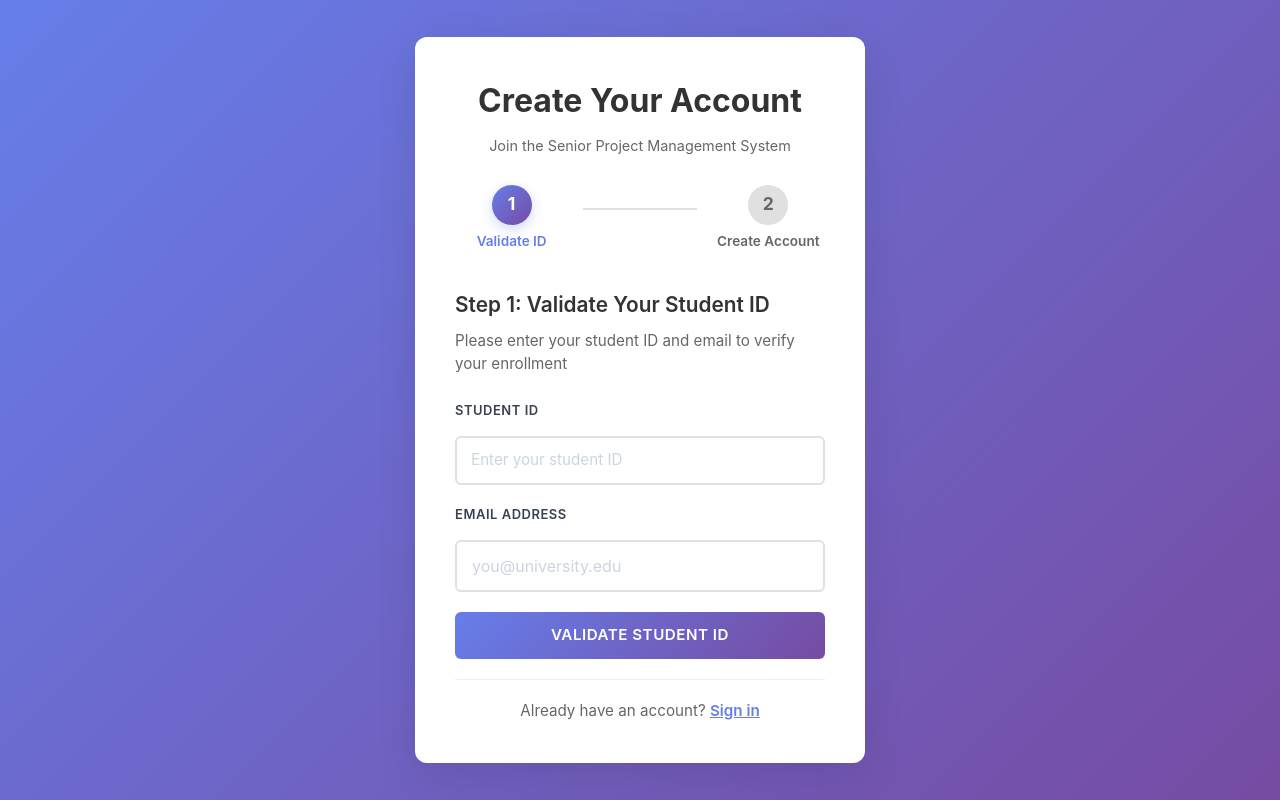
RegisterForm (Two-Step Registration) › Step 1: Student ID Validation › shows success message on valid student ID
The width and height of the screenshot is (1280, 800).
Type "STU-123" into the field labelled "Student ID" at (640, 461), box [455,436,825,485]
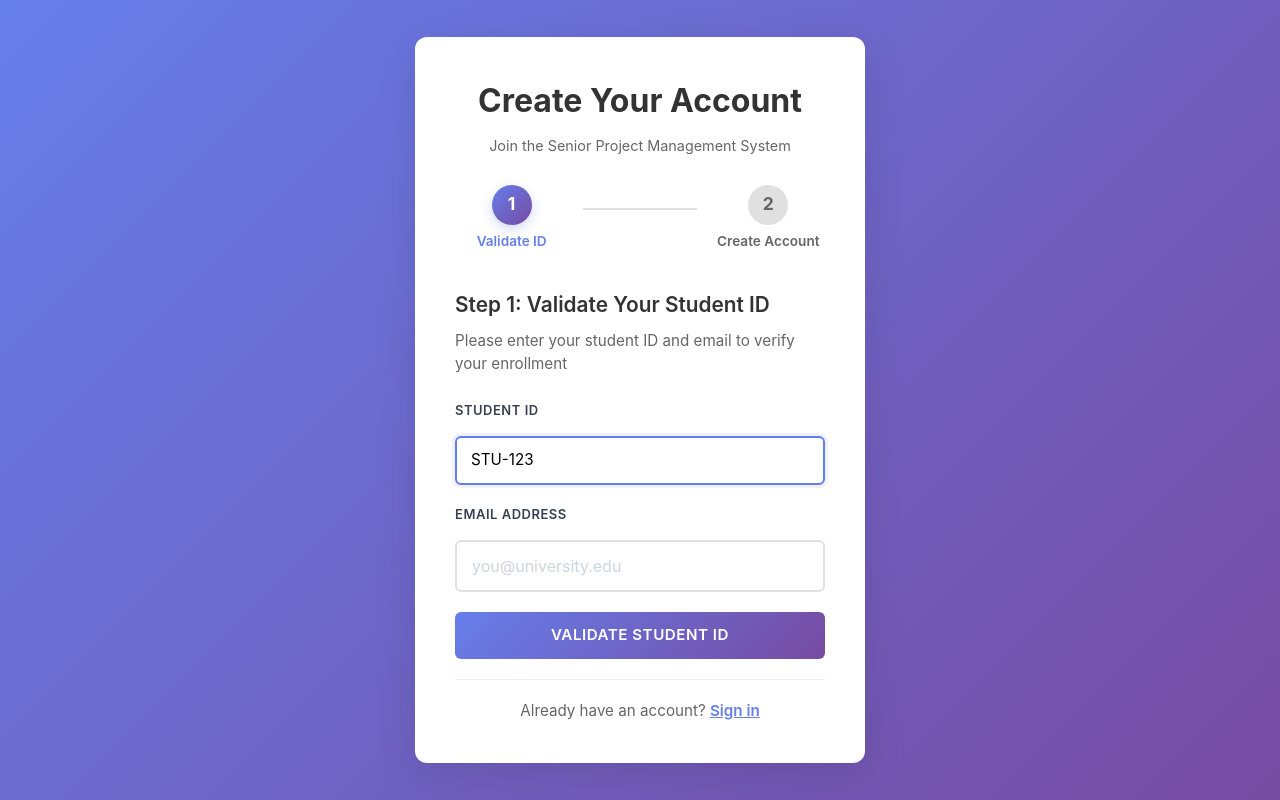
Type "test@university.edu" into the field labelled "Email Address" at (640, 566), box [455,540,825,592]
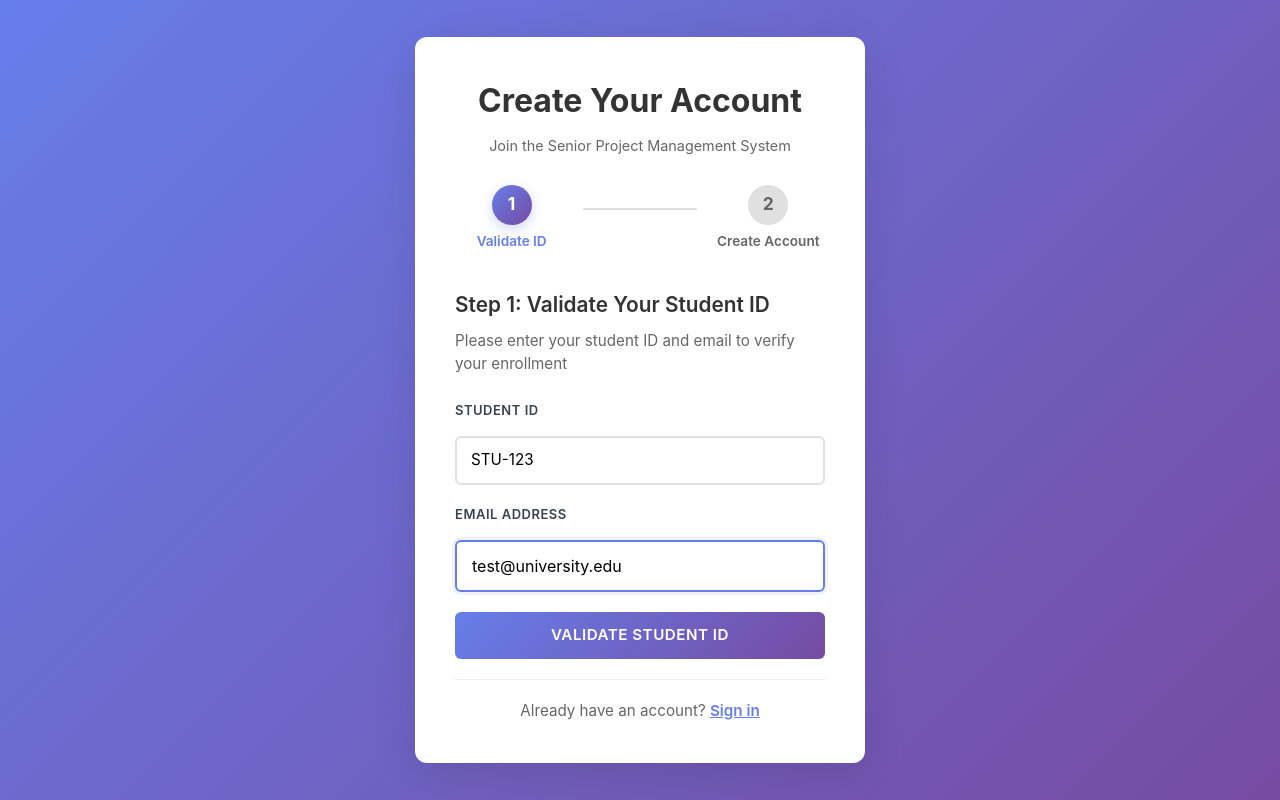
Click the button "Validate Student ID" at (640, 636), box [455,612,825,659]
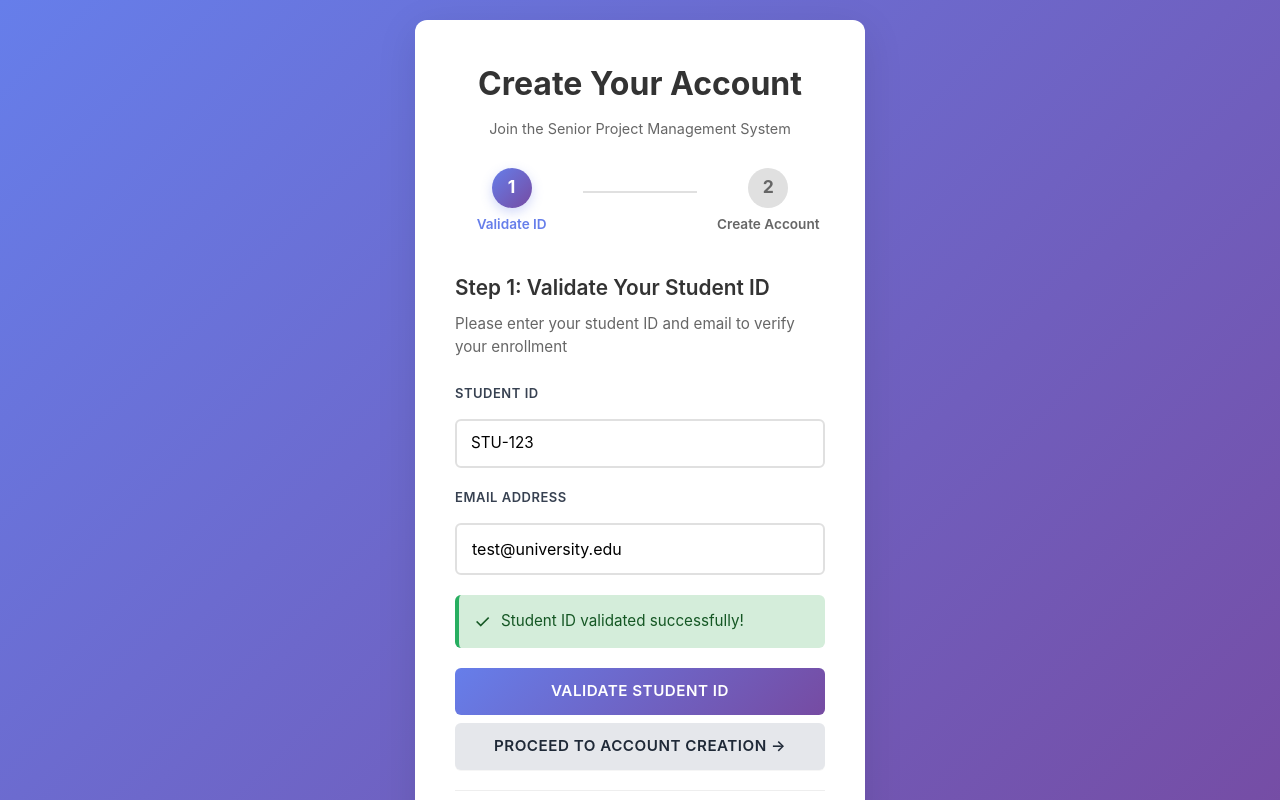
Expected: the text "Student ID validated successfully!" is shown, [501,612,744,630]
